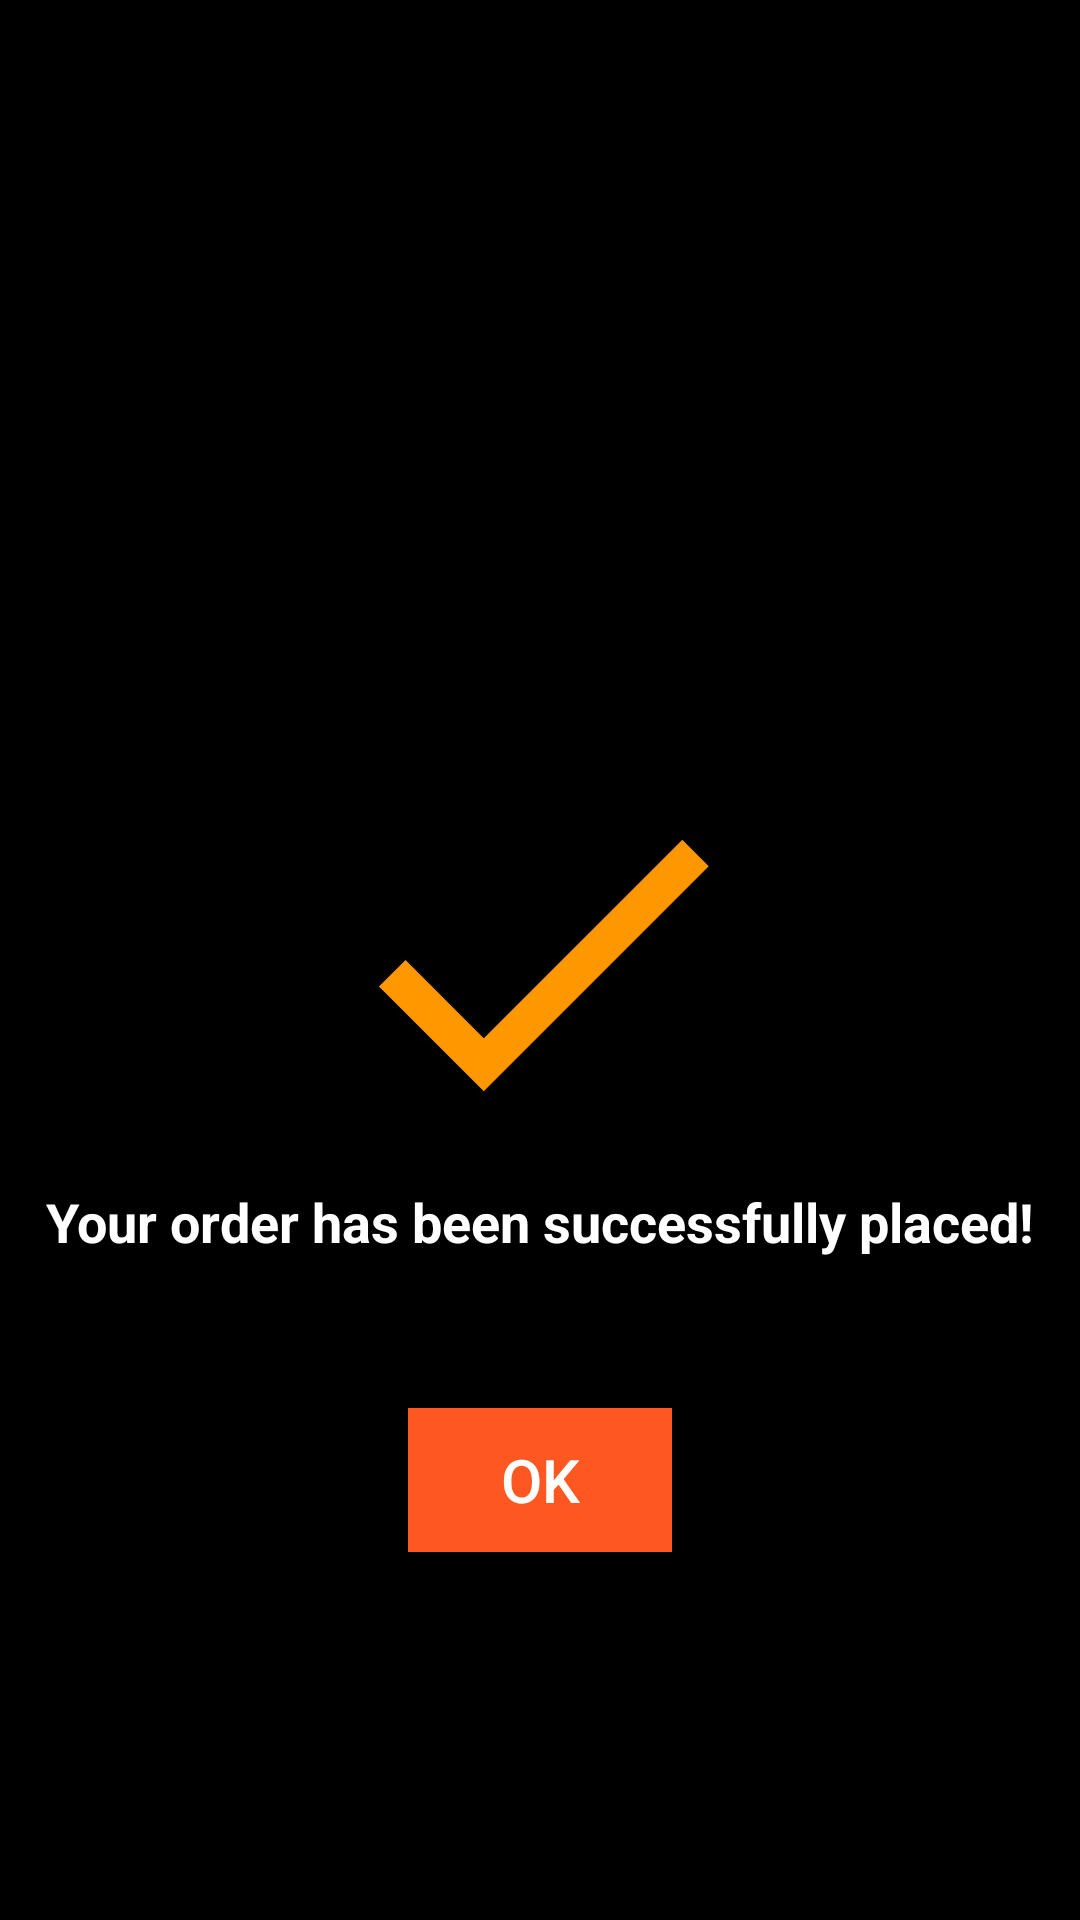

Screen size 1080x1920. Icon name, then its box in pixels as box(x1, y1, x2, y2):
tick: box(379, 840, 709, 1091)
